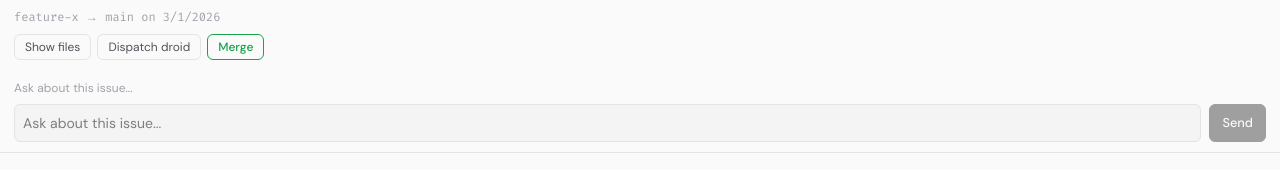
Test case: PrCard › merges PR on button click
Click the button "Merge".
click(236, 47)  # box [207, 34, 264, 60]
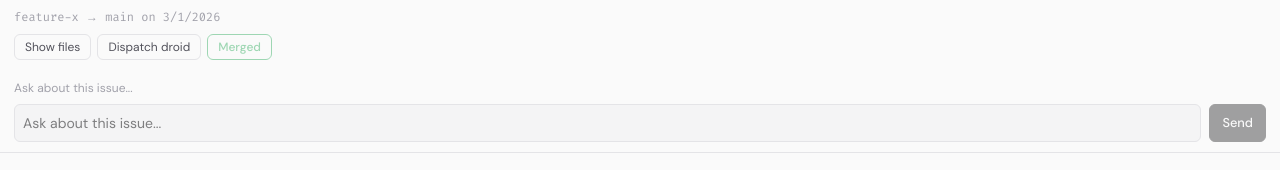
expect the button "Merged" is shown: met, box [207, 34, 272, 60]
